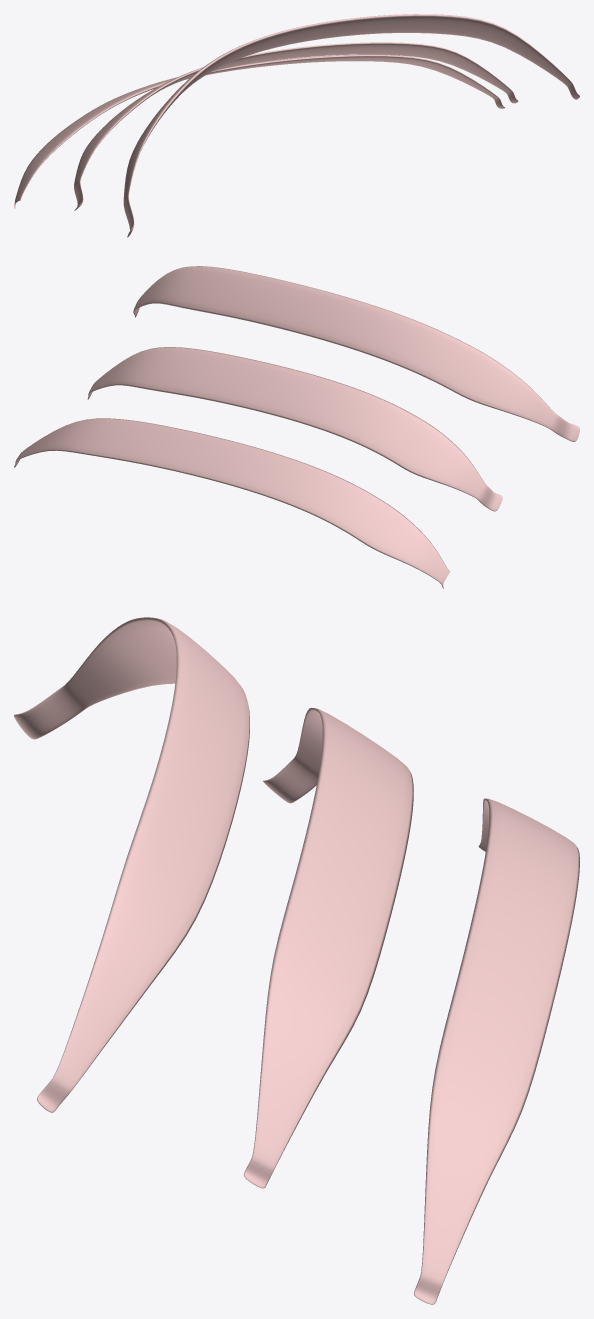
File: right.glb
3 views of the same model, one above another, from view 1: azimuth 30°, elevation 25°; view 2: azimuth 150°, elevation 25°; view 3: azimuth 270°, elevation 25° (orthographic). The views are drawn at different scales.
Visible parts, largest first — view 1: shoe; view 2: shoe; view 3: shoe.
Boxes of the visible parts, left/top/right/bottom form: shoe: left=14, top=14, right=579, bottom=237; shoe: left=14, top=266, right=579, bottom=588; shoe: left=14, top=617, right=579, bottom=1304.
Size of what is drawn, in the model's own units: 12 by 4.68 by 6.46.
